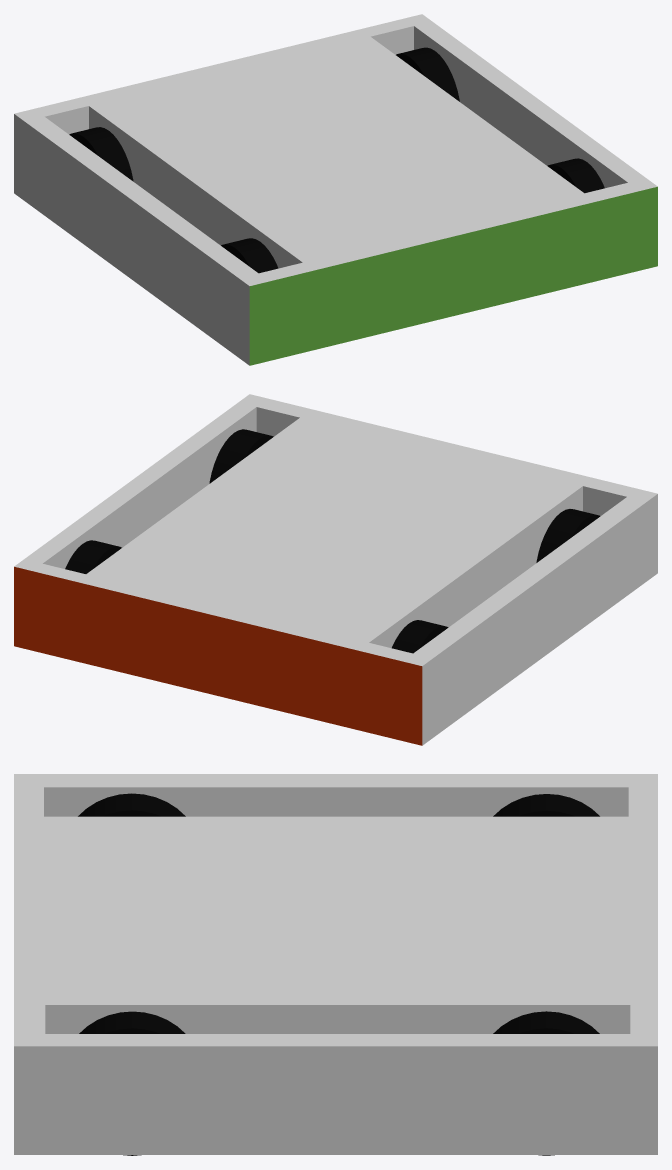
3 views of the same model, one above another, from view 1: azimuth 30°, elevation 25°; view 2: azimuth 150°, elevation 25°; view 3: azimuth 270°, elevation 25° (orthographic). The views are drawn at different scales.
Parts seen in each view (by area): view 1: Part 1 (×5); view 2: Part 1 (×5); view 3: Part 1 (×5).
Part boxes in pixels (x1=…): Part 1 (×5): x1=14, y1=14, x2=657, y2=365; Part 1 (×5): x1=14, y1=394, x2=657, y2=745; Part 1 (×5): x1=14, y1=774, x2=657, y2=1155.
Size of the model in its own units: 0.4089 by 0.0897 by 0.4089.
